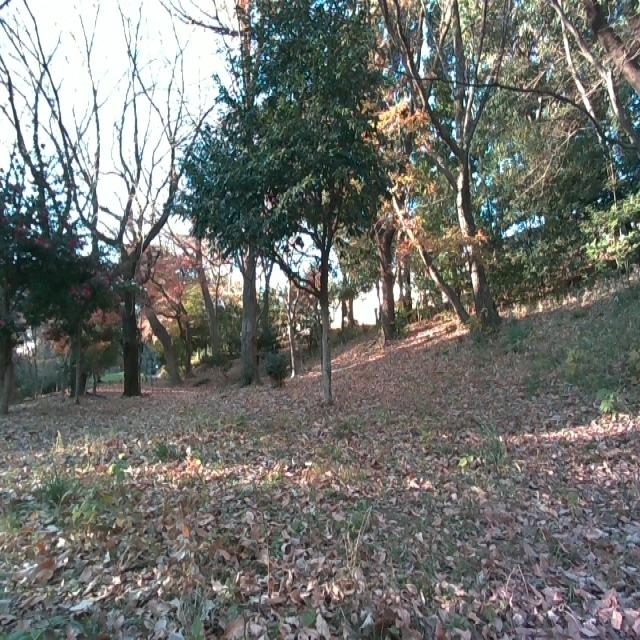tree: (65, 0, 195, 400), (380, 0, 513, 344), (174, 0, 275, 378), (278, 94, 345, 406)
